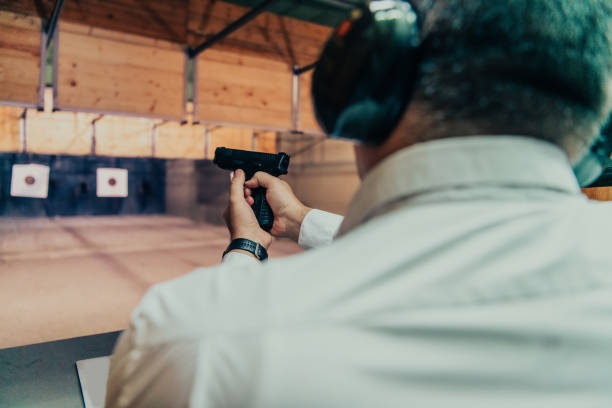gun: (212, 148, 291, 231)
